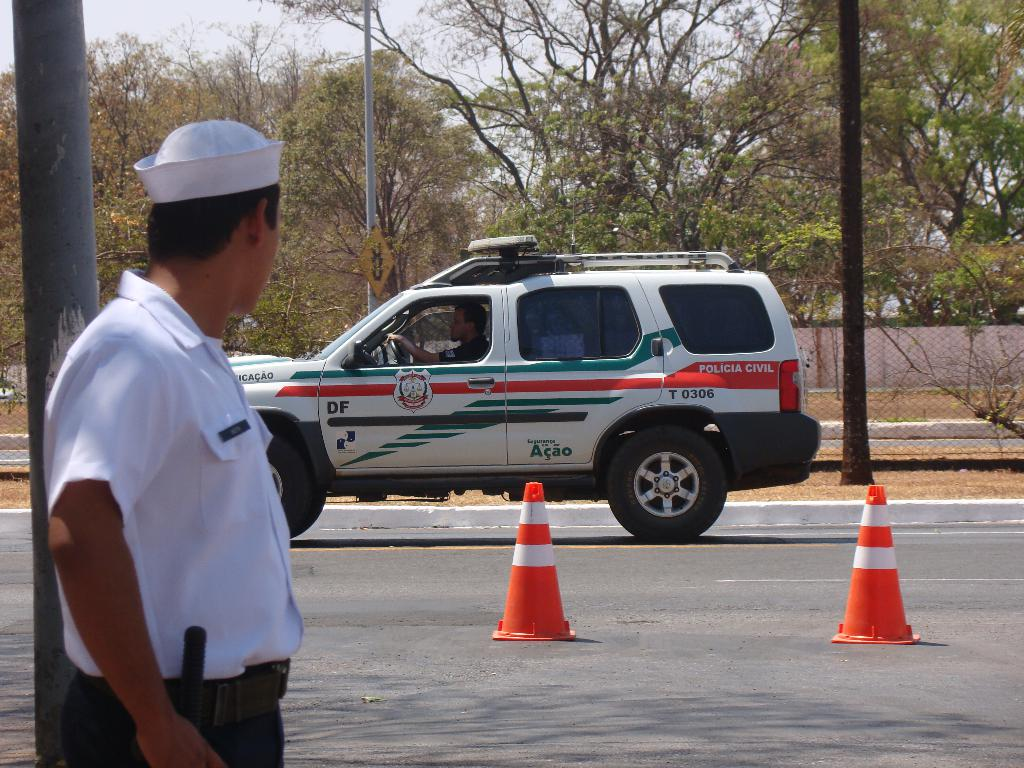Car: (160, 224, 826, 564)
